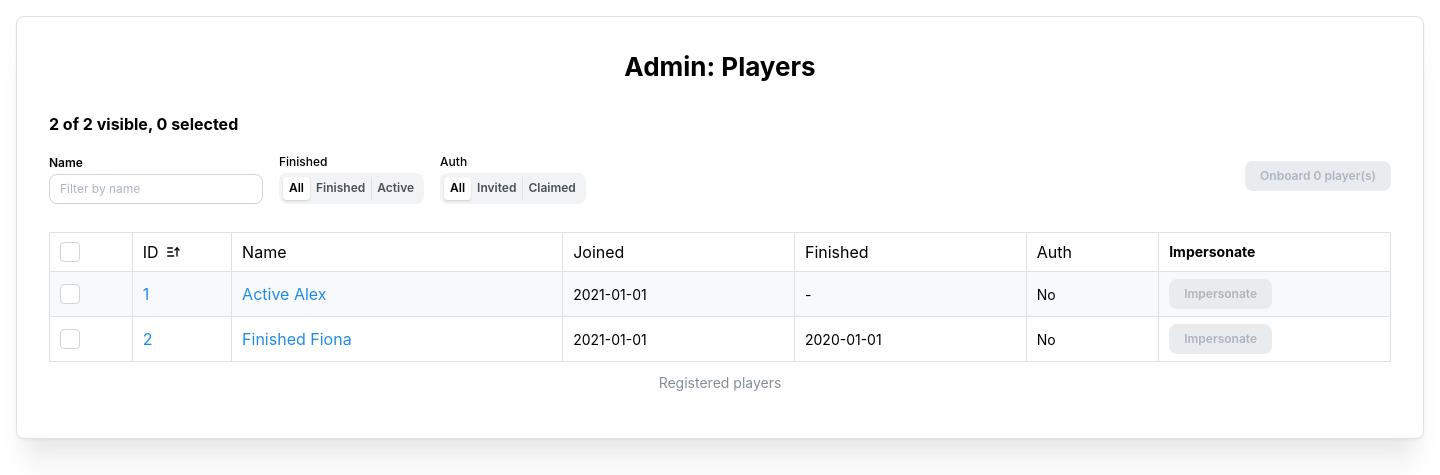
Test: AdminPlayerList › tri-state filters › filters to only finished players when Finished is selected
The width and height of the screenshot is (1440, 475).
Click the radio button labelled "Finished". click: coordinates (341, 188)
box: x1=316 y1=180 x2=365 y2=195
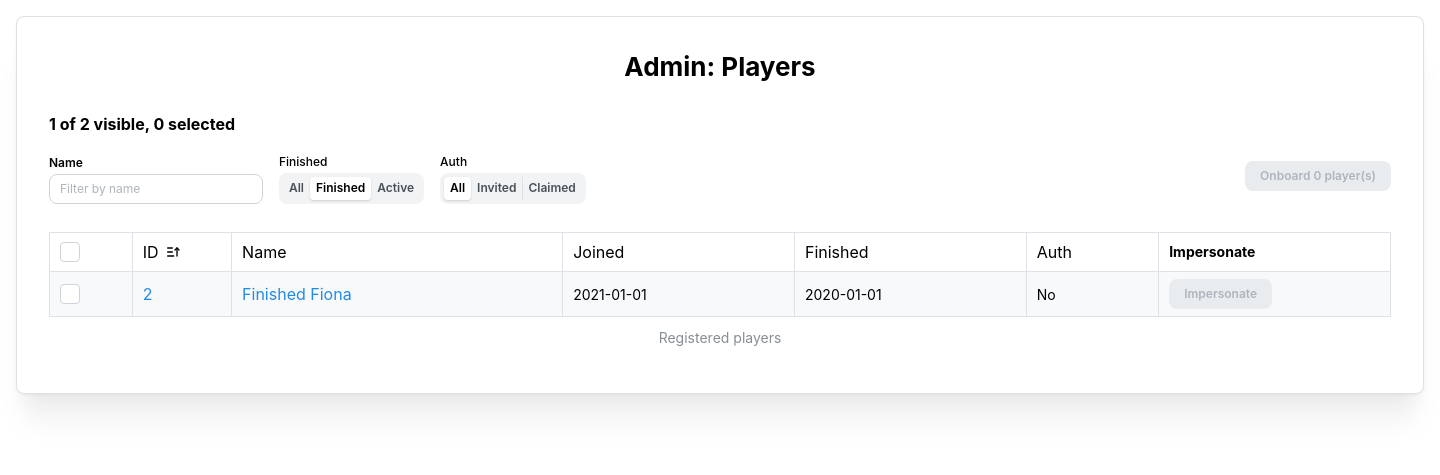
Expected: the link "Finished Fiona" is shown, x1=242 y1=284 x2=352 y2=304
Now the link "Active Alex" is gone
